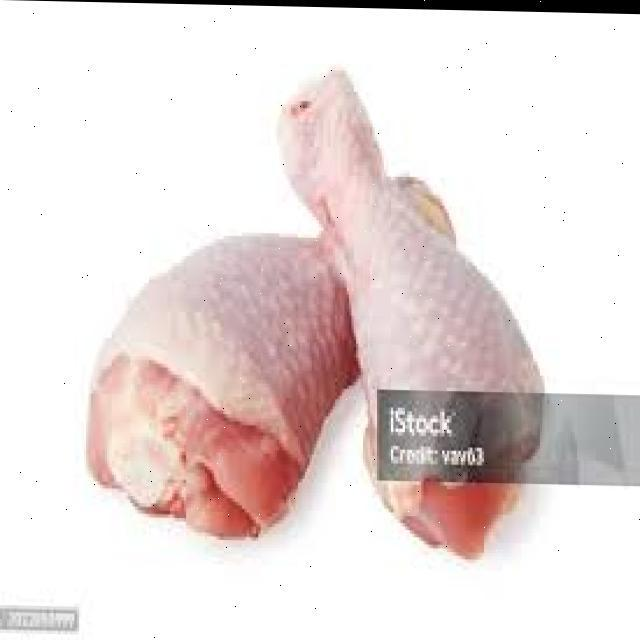leg: (90, 175, 442, 524), (284, 65, 533, 517)
